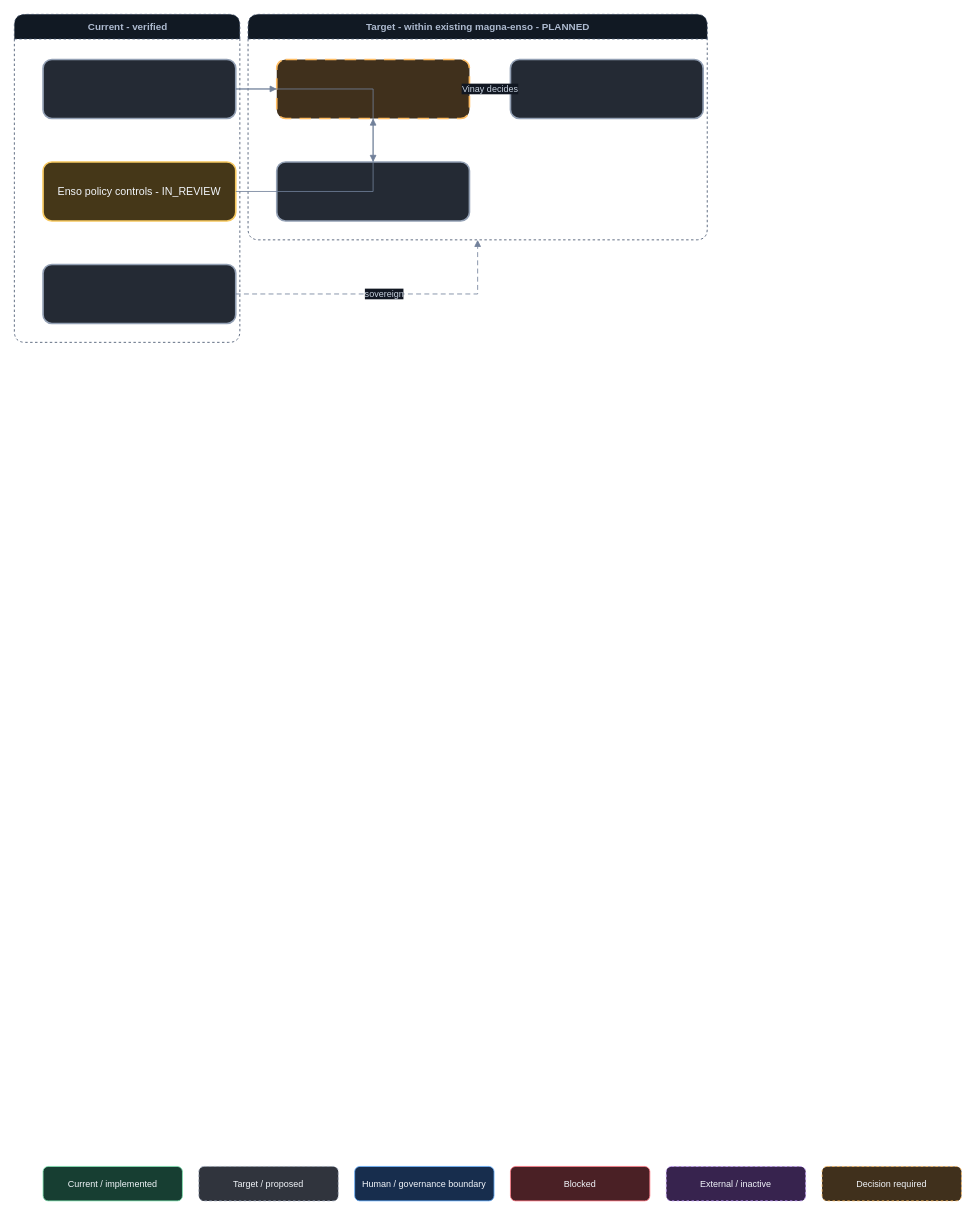
This 976x1215 diagram has some shape labels left out. The centre of each missing label's shape, as x and y in pixels:
Governance core - compose or select: point (606, 88)
MCC integrated primitives - IMPLEMENTED_VALIDATED: point (139, 88)
Policy integration experiment - ADR-R1 - DECISION_REQUIRED: point (373, 88)
Runtime core - durable + replay: point (373, 191)
TRACE artifacts - IMPLEMENTED_VALIDATED: point (139, 293)
